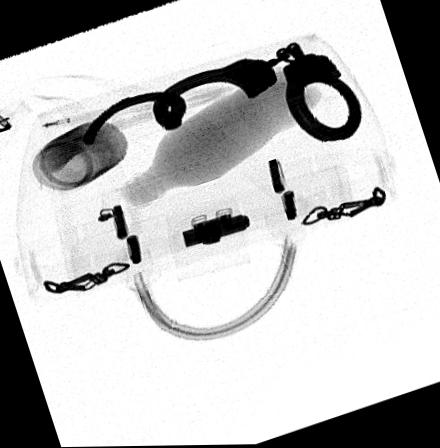HandCuffs: (79, 41, 365, 151)
